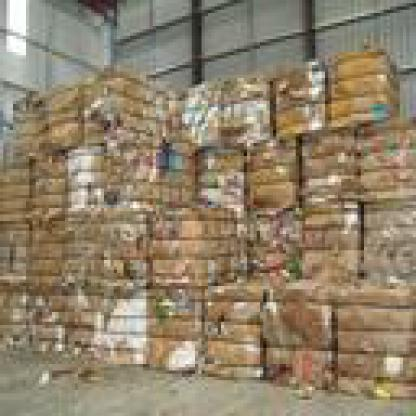CARDBOARD: (10, 65, 178, 149), (26, 136, 188, 202), (26, 208, 146, 286), (23, 286, 143, 364), (234, 202, 292, 270), (260, 302, 335, 348), (162, 78, 214, 143), (146, 201, 234, 237), (146, 257, 238, 289), (266, 348, 328, 390), (354, 113, 413, 150), (325, 43, 400, 72), (0, 146, 29, 221), (332, 351, 413, 377), (325, 91, 397, 120), (263, 276, 332, 306), (296, 247, 358, 279), (195, 335, 257, 367), (358, 247, 413, 283), (146, 234, 244, 254), (328, 328, 413, 351), (143, 335, 198, 370), (296, 224, 358, 254), (192, 358, 263, 384), (270, 101, 325, 133), (296, 146, 354, 176), (0, 283, 23, 358), (335, 280, 413, 302), (150, 283, 202, 315), (338, 306, 413, 328), (299, 124, 357, 152), (351, 143, 413, 169), (201, 299, 263, 325), (0, 221, 23, 289), (354, 224, 413, 250), (322, 71, 396, 91), (240, 136, 296, 162), (204, 280, 266, 302), (214, 94, 266, 120), (267, 78, 325, 101), (240, 182, 289, 208), (358, 198, 413, 221), (266, 58, 318, 82), (198, 318, 260, 338), (211, 68, 263, 91), (192, 140, 244, 162), (146, 318, 212, 335), (354, 166, 413, 185), (192, 185, 240, 208), (218, 120, 270, 140), (299, 172, 351, 192), (244, 159, 296, 179), (192, 162, 244, 182), (292, 186, 354, 202), (299, 208, 357, 224), (292, 195, 358, 208), (332, 384, 413, 393), (354, 186, 413, 198)
